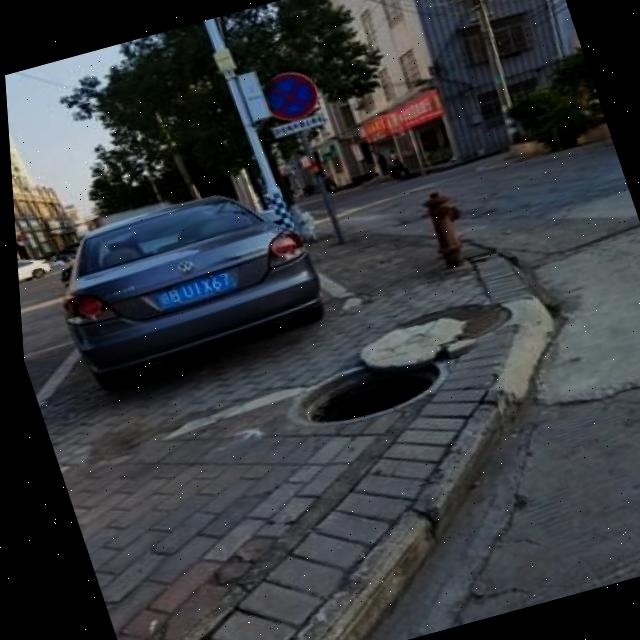manhole: (255, 290, 515, 439)
